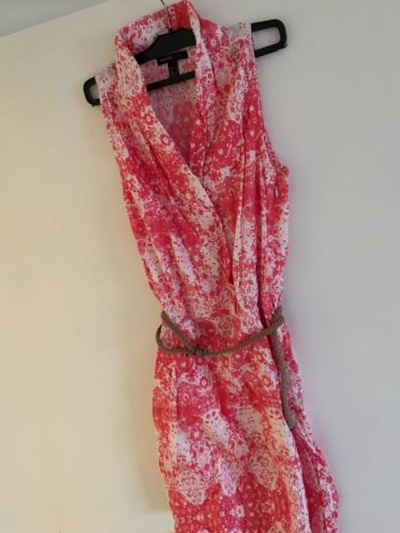Dress: (37, 0, 378, 531), (113, 491, 400, 533), (0, 49, 8, 533)
